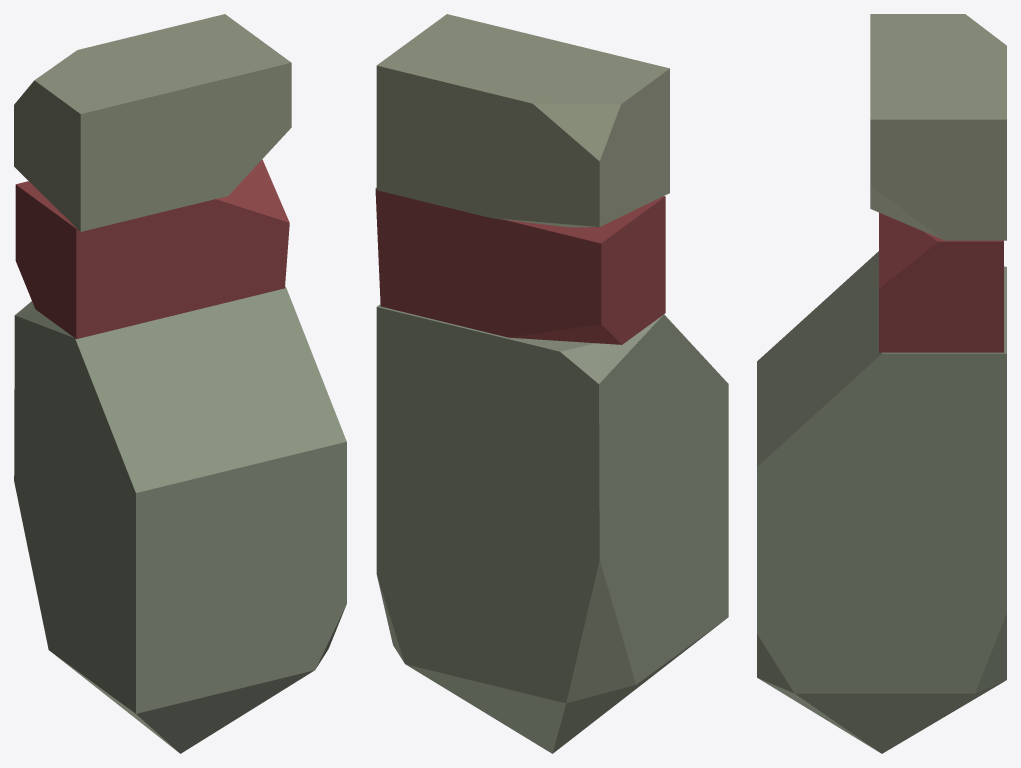
Rendered from railing_half.fbx.
The picture shows the model from 3 angles, left to right: view 1: azimuth 30°, elevation 25°; view 2: azimuth 150°, elevation 25°; view 3: azimuth 270°, elevation 25°; orthographic projection. The views are drawn at different scales.
Visible parts, largest first — view 1: railing_half; view 2: railing_half; view 3: railing_half.
Boxes of the visible parts, x1,y1,x2,y2 form: railing_half: (14, 14, 346, 753); railing_half: (375, 14, 728, 753); railing_half: (757, 14, 1006, 753).
Size of the model in its own units: 50.58 by 152 by 50.
